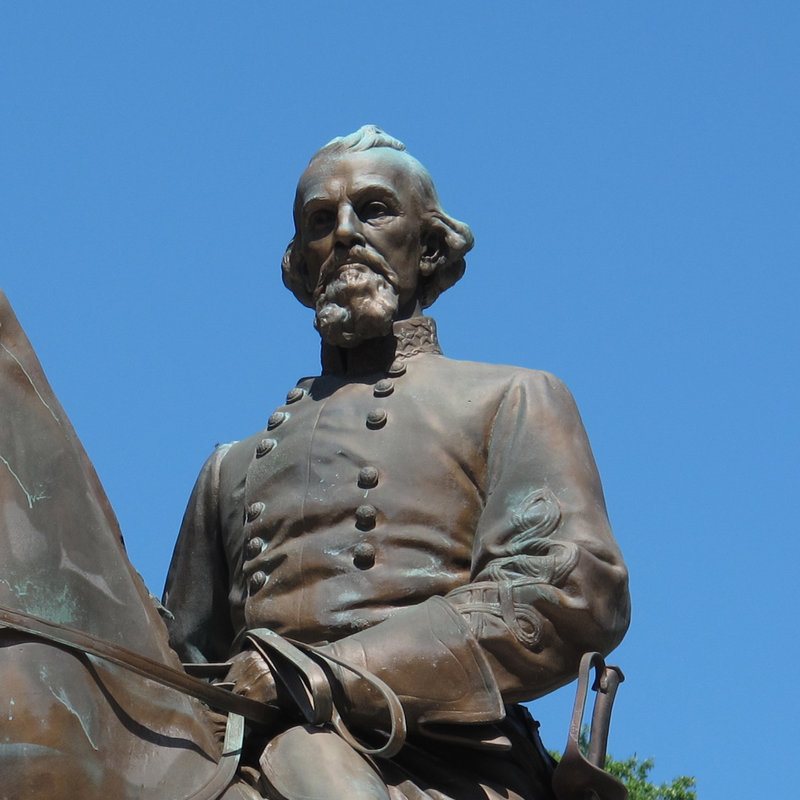person-like: (150, 115, 648, 800)
